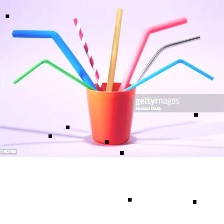drinking_straw: (119, 54, 218, 92), (9, 55, 100, 94), (103, 6, 126, 94)
glass: (83, 78, 137, 148)
